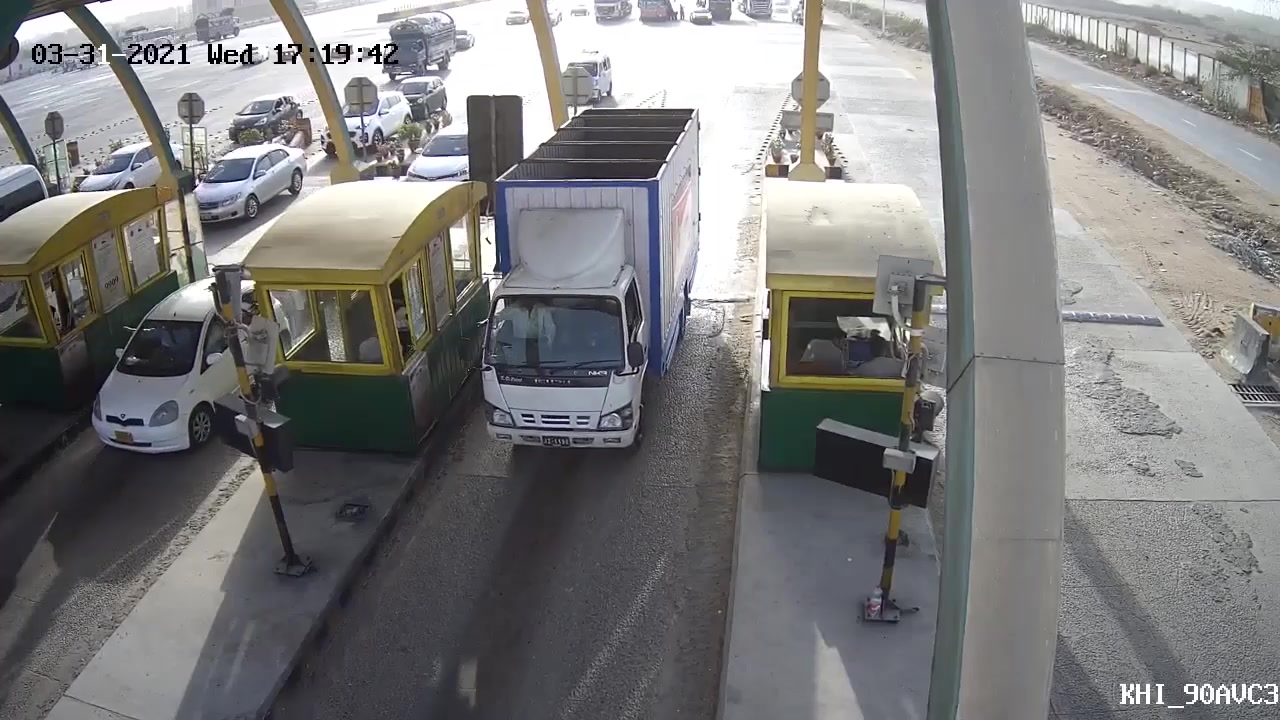F3: (454, 98, 725, 462)
